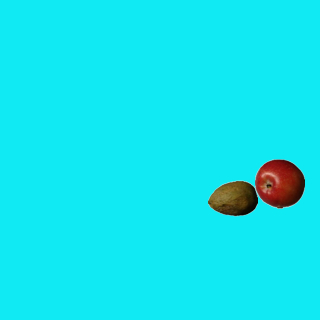Apple Braeburn: (254, 158, 304, 208)
Papaya: (207, 173, 257, 223)
